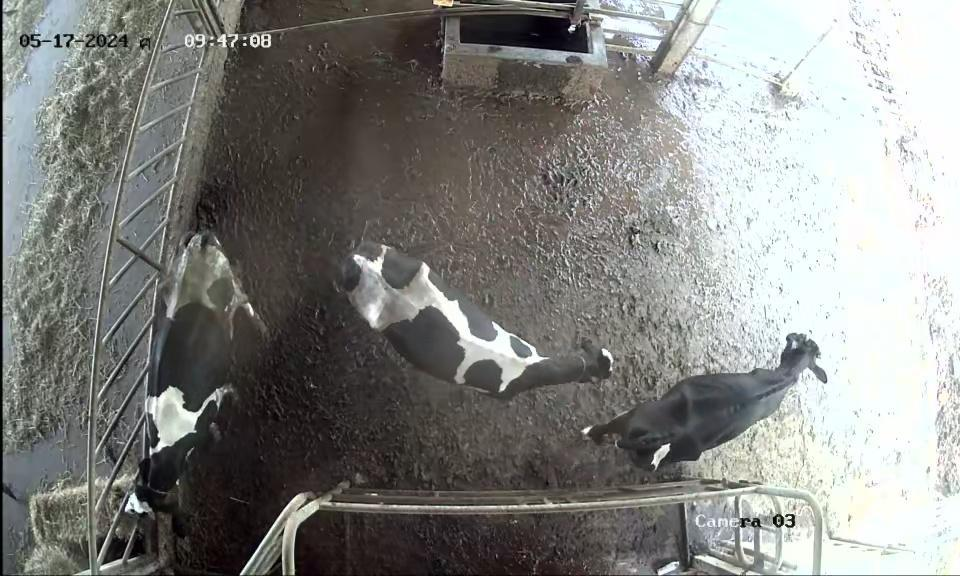stand: (329, 218, 618, 409), (114, 229, 270, 532), (577, 306, 832, 483)
